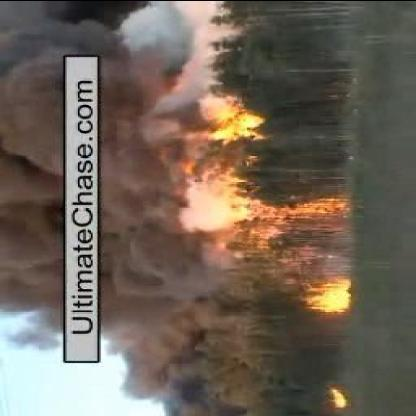-: (100, 152, 190, 344), (5, 49, 60, 321), (100, 8, 198, 144)
foggia-v2-map80-epoch100 - v1 4323: (306, 278, 350, 312)
